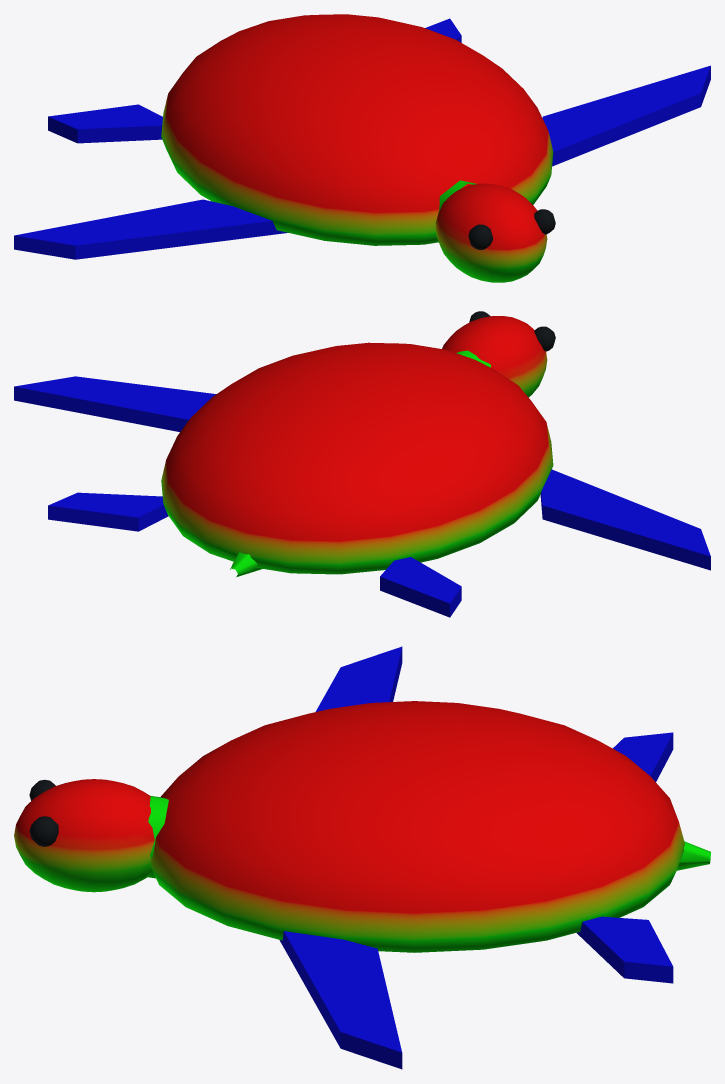
The model's file is fish_turtle.glb.
3 renders of one model, top to bottom at view 1: azimuth 30°, elevation 25°; view 2: azimuth 150°, elevation 25°; view 3: azimuth 270°, elevation 25°, orthographic. The views are drawn at different scales.
Visible parts, largest first — view 1: Body, Eye; view 2: Body, Eye; view 3: Body, Eye.
Part boxes in pixels (bbox=[...]): Body: bbox=[14, 14, 710, 282]; Eye: bbox=[468, 209, 555, 249]; Body: bbox=[14, 316, 710, 617]; Eye: bbox=[469, 311, 555, 351]; Body: bbox=[14, 646, 710, 1069]; Eye: bbox=[29, 779, 58, 846].
Bounding box in the file's own units: 1.56 × 0.27 × 1.13.
